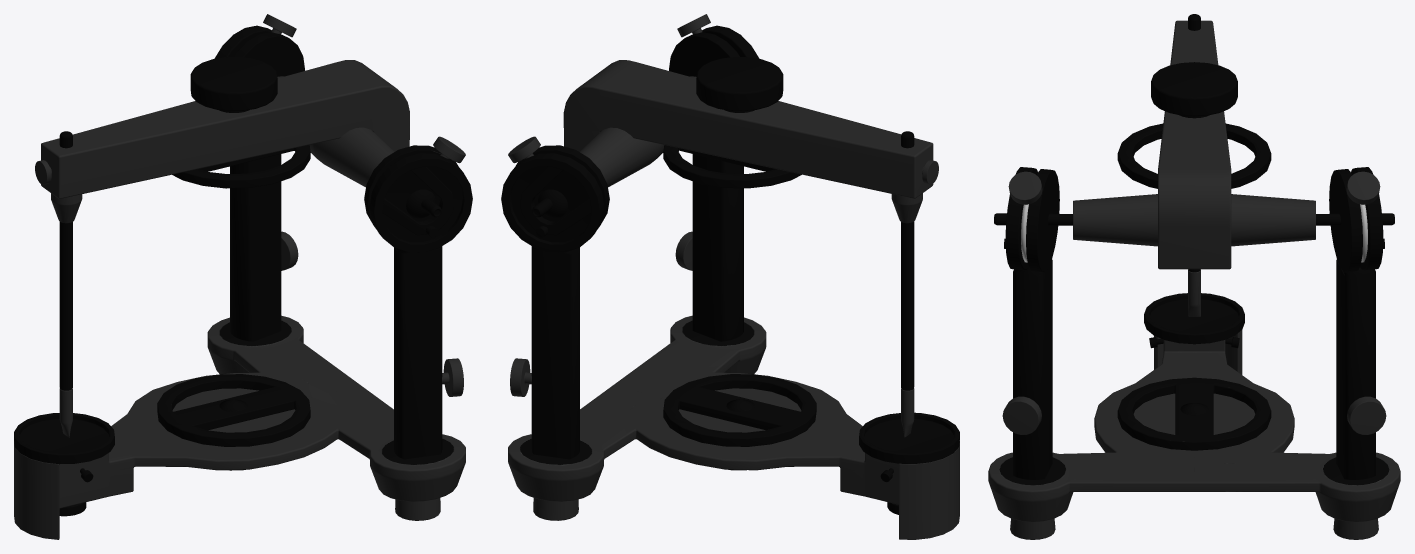
The model's file is SemiArticulator.fbx.
3 views of the same model, side by side, from view 1: azimuth 30°, elevation 25°; view 2: azimuth 150°, elevation 25°; view 3: azimuth 270°, elevation 25° (orthographic).
Visible parts, largest first — view 1: Base, Top, Rotate01, Hold, Pin01, Pin12, Rotate02, BaseTop, Pin05, TopPen, Ball01, Pin04; view 2: Base, Top, Hold, Rotate02, Pin01, Pin12, Rotate01, BaseTop, Pin04, TopPen, Ball02, Pin05; view 3: Base, Top, Pin12, Hold, Pin01, Rotate01, Rotate02, BaseTop, Pin05, Pin04, Pin02, Pin03 (+1 smaller).
Part boxes in pixels (x1,y1,x2,y2): Base: (59,154,465,520); Top: (35,60,409,390); Rotate01: (364,145,472,252); Hold: (14,413,114,539); Pin01: (190,57,277,112); Pin12: (277,76,441,217); Rotate02: (214,25,304,76); BaseTop: (172,145,310,188); Pin05: (442,358,463,396); TopPen: (59,388,72,437); Ball01: (406,189,435,218); Pin04: (281,231,298,270); Base: (508,154,898,520); Top: (563,60,938,390); Hold: (859,412,959,539); Rotate02: (501,145,609,252); Pin01: (696,57,783,112); Pin12: (532,76,696,217); Rotate01: (669,25,759,76); BaseTop: (663,145,801,188); Pin04: (510,358,531,396); TopPen: (901,388,914,437); Ball02: (538,189,567,218); Pin05: (675,231,692,270); Base: (988,259,1400,539); Top: (1158,14,1231,272); Pin12: (994,194,1394,246); Hold: (1144,293,1244,374); Pin01: (1151,62,1237,118); Rotate01: (1005,167,1059,272); Rotate02: (1329,167,1383,272); BaseTop: (1117,123,1271,188); Pin05: (1002,396,1041,434); Pin04: (1347,396,1386,434); Pin02: (1008,171,1042,204); Pin03: (1346,171,1380,204).
Bounding box in the file's own units: 14.94 × 15.48 × 14.42.
1 material, 1 textured.
